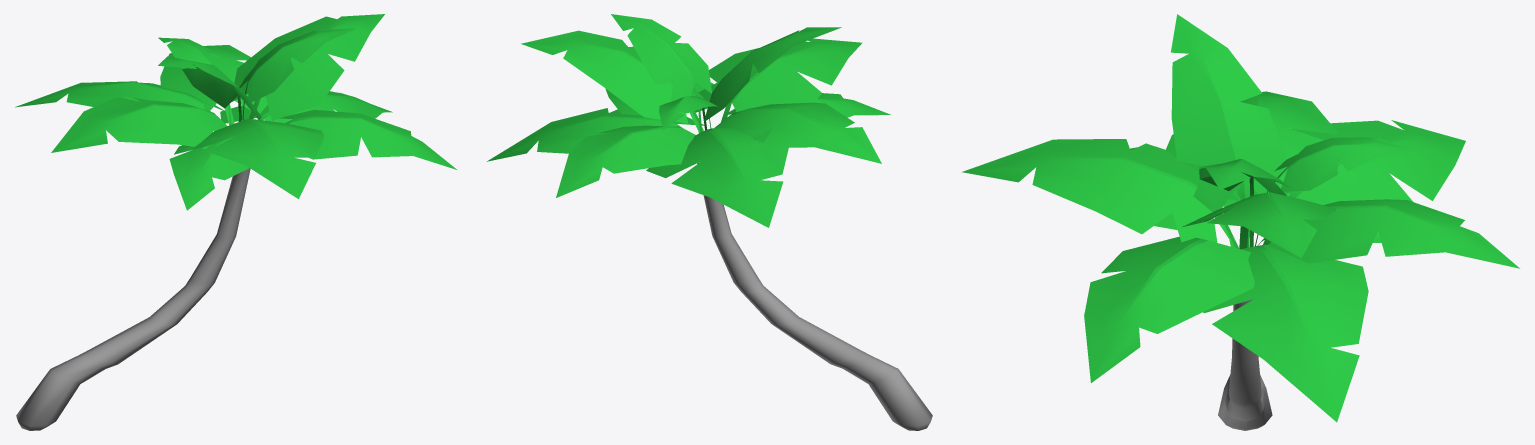
Rendered from Mesh_Beach_Palm04.fbx.
3 views of the same model, side by side, from view 1: azimuth 30°, elevation 25°; view 2: azimuth 150°, elevation 25°; view 3: azimuth 270°, elevation 25° (orthographic). The views are drawn at different scales.
Parts seen in each view (by area): view 1: Mesh_Beach_Palm04; view 2: Mesh_Beach_Palm04; view 3: Mesh_Beach_Palm04.
Part boxes in pixels (box(x1,y1,x2,y2)): Mesh_Beach_Palm04: box(15, 14, 456, 430); Mesh_Beach_Palm04: box(487, 14, 932, 430); Mesh_Beach_Palm04: box(962, 14, 1519, 430).
Size of the model in its own units: 9.92 by 8.23 by 8.8.
